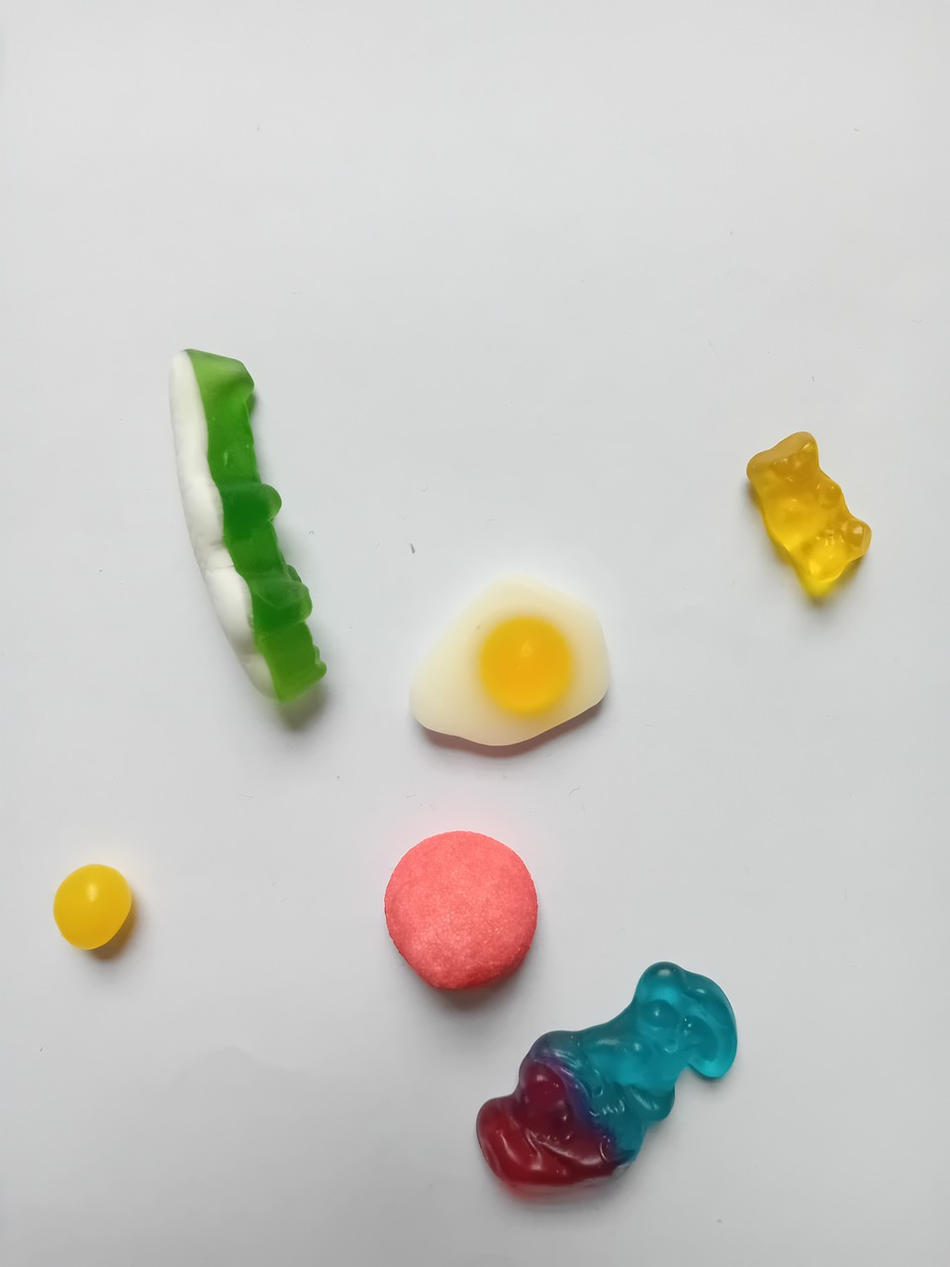crocodile_vert: (153, 337, 331, 711)
dragibus_jaune: (45, 848, 137, 954)
oeuf_oeuf: (390, 560, 619, 752)
ourson_jaune: (727, 425, 878, 592)
schtroumpf_bleu-rouge: (471, 952, 738, 1211)
tagada_fraise: (378, 824, 542, 993)
